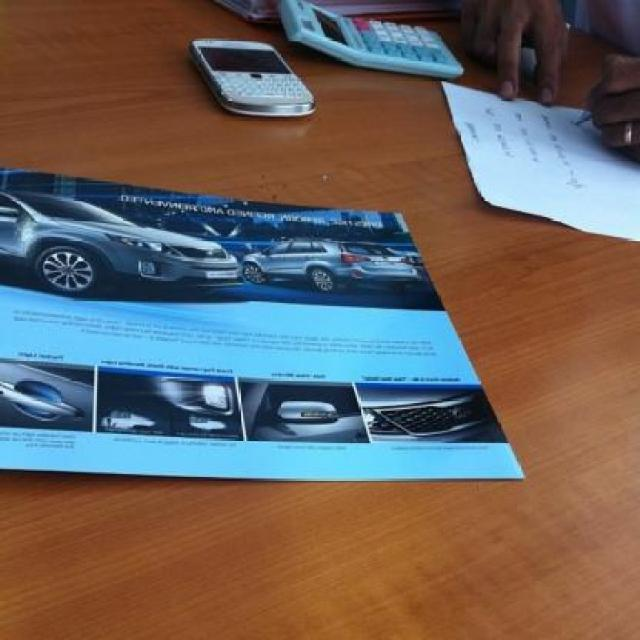phone: (182, 26, 324, 112)
